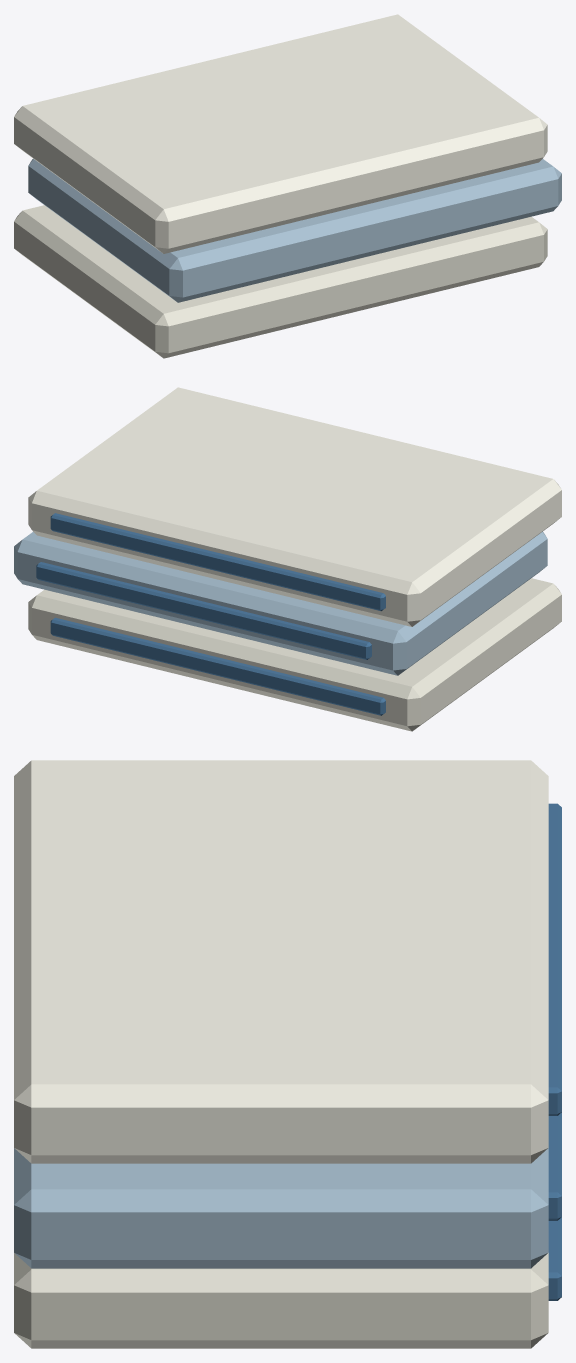
File: folded_medical_linen.glb
The picture shows the model from 3 angles, top to bottom: view 1: azimuth 30°, elevation 25°; view 2: azimuth 150°, elevation 25°; view 3: azimuth 270°, elevation 25°; orthographic projection. The views are drawn at different scales.
Parts seen in each view (by area): view 1: folded_linen (×3); view 2: folded_linen (×3), linen_fold (×3); view 3: folded_linen (×3), linen_fold (×3).
Part boxes in pixels (box(x1,y1,x2,y2)): folded_linen (×3): box(14, 14, 561, 358); folded_linen (×3): box(14, 387, 561, 731); linen_fold (×3): box(36, 513, 385, 715); folded_linen (×3): box(14, 760, 548, 1348); linen_fold (×3): box(548, 803, 561, 1300).
Bounding box in the file's own units: 0.342 × 0.12 × 0.2255.
